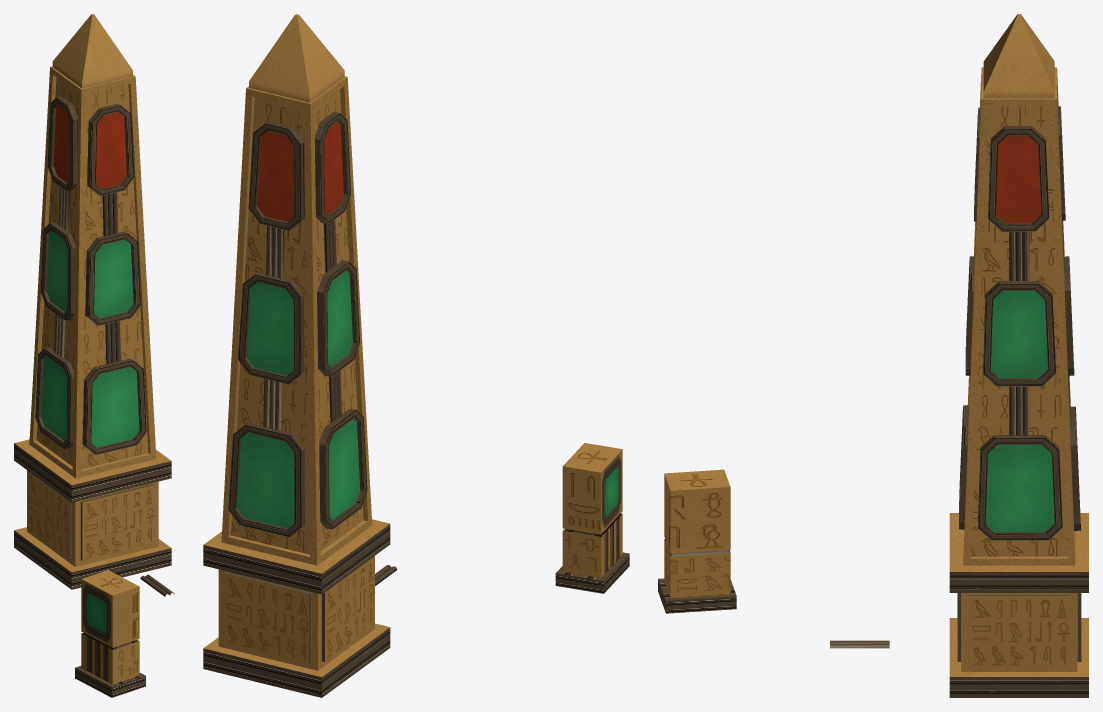
The model's file is obelisk_switch.fbx.
The picture shows the model from 3 angles, left to right: view 1: azimuth 30°, elevation 25°; view 2: azimuth 150°, elevation 25°; view 3: azimuth 270°, elevation 25°; orthographic projection. The views are drawn at different scales.
Parts seen in each view (by area): view 1: obelisk, switch_main, cabel; view 2: obelisk, switch_main; view 3: obelisk, switch_main.
Part boxes in pixels (x1,y1,x2,y2): obelisk: (14,14,171,589); switch_main: (75,570,145,697); cabel: (140,574,174,596); obelisk: (203,14,390,697); switch_main: (555,443,629,593); obelisk: (949,14,1088,697); switch_main: (658,469,736,613).
Size of the model in its own units: 343 by 944 by 563.
Materials: 1 (1 with a texture image).
